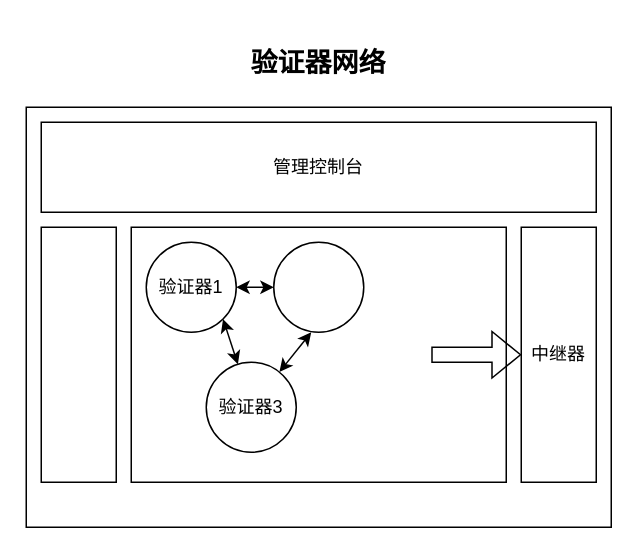
The diagram is 638 pixels wide and 554 high, and some of its shapes have lost their labels. The shapes that lost their labels are listed below. From the top down, each one's box as (x1, y1, x2, y2) in pixels, then its label:
(272, 241, 364, 332): 验证器2
(40, 226, 116, 482): Nacos
